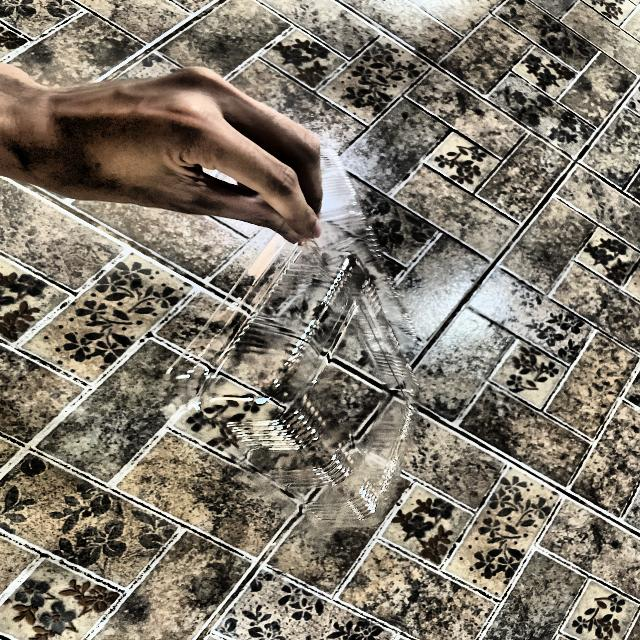plastic container: (155, 161, 464, 564)
